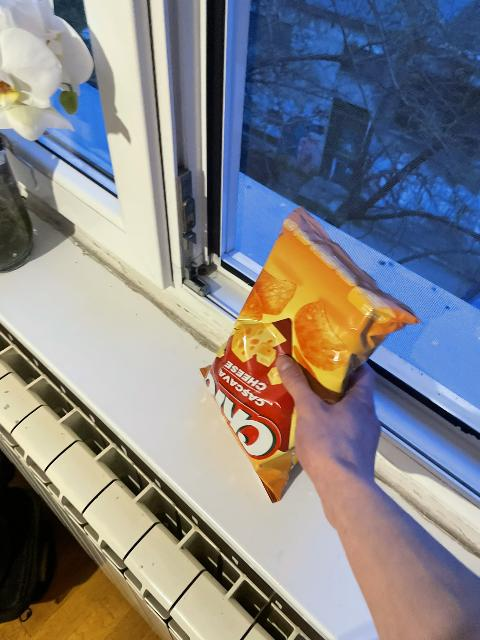Chio Cascaval 125g: (198, 204, 420, 498)
